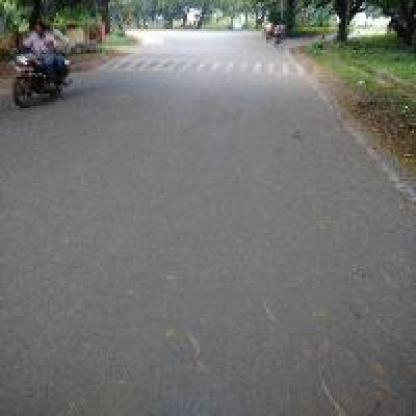Speed Bump: (96, 56, 308, 69)
